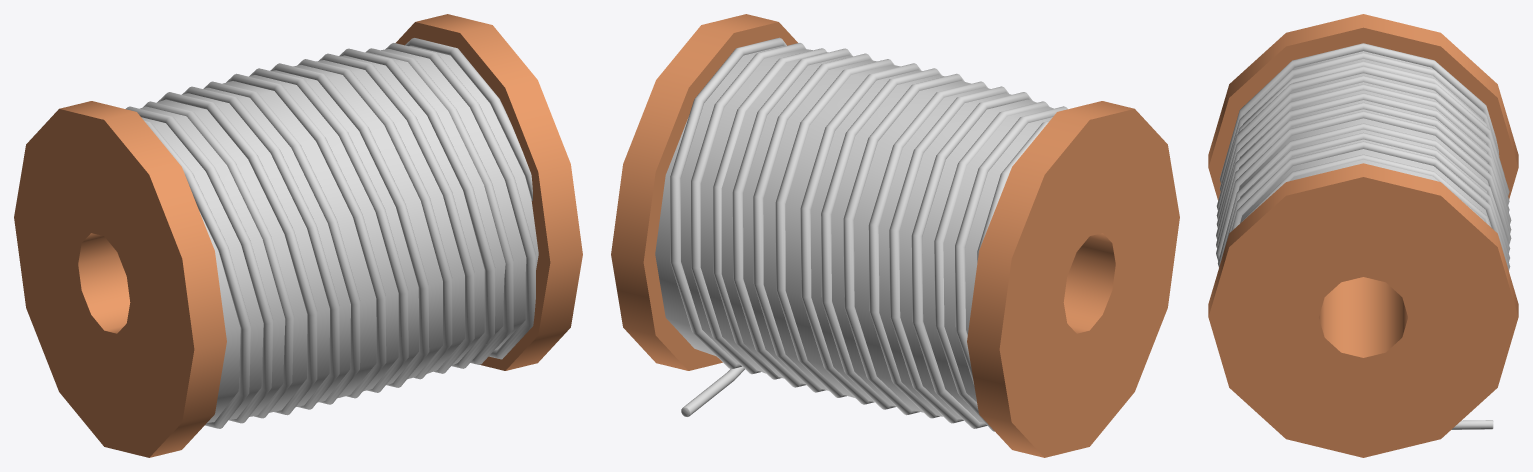
Rendered from Garnspule.fbx.
The picture shows the model from 3 angles, left to right: view 1: azimuth 30°, elevation 25°; view 2: azimuth 150°, elevation 25°; view 3: azimuth 270°, elevation 25°; orthographic projection. The views are drawn at different scales.
Visible parts, largest first — view 1: Cylinder.001; view 2: Cylinder.001; view 3: Cylinder.001.
Part boxes in pixels (x1,y1,x2,y2): Cylinder.001: (14,14,582,457); Cylinder.001: (611,14,1179,457); Cylinder.001: (1208,14,1518,457).
Size of the model in its own units: 60.24 by 48.44 by 48.44.
